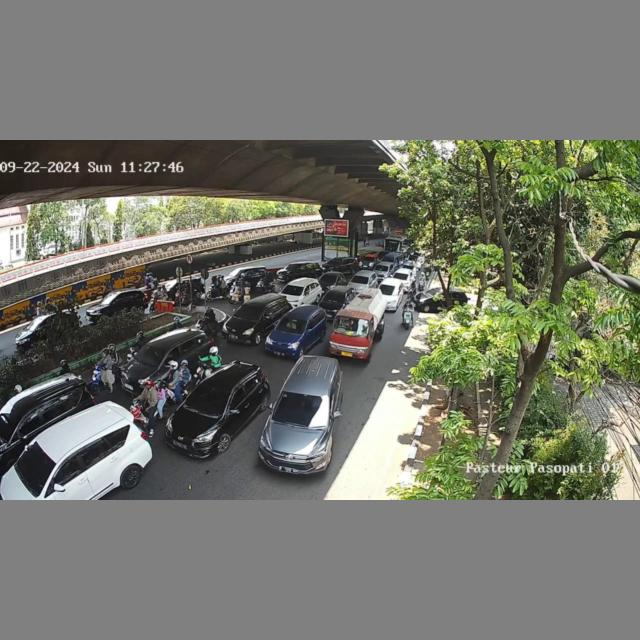windshield: (10, 441, 59, 494), (271, 392, 333, 426), (184, 385, 233, 416), (332, 314, 371, 337), (134, 344, 166, 368), (276, 314, 308, 335), (232, 303, 262, 324), (323, 291, 345, 304), (281, 285, 304, 296), (379, 284, 398, 296), (351, 275, 369, 285), (319, 274, 339, 282), (393, 273, 409, 280), (375, 265, 391, 272)
